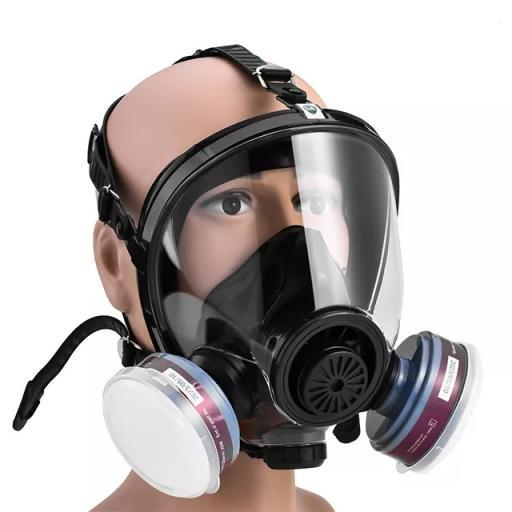mask: (117, 108, 480, 504)
